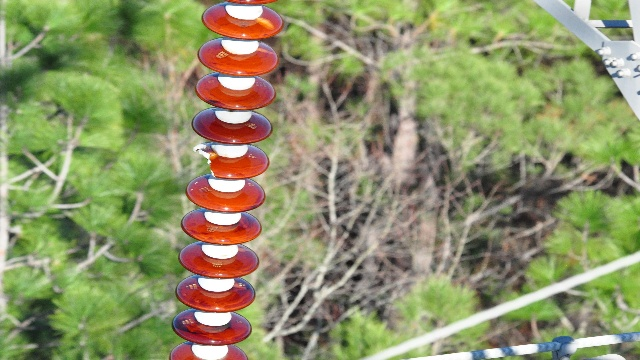broken_local: (192, 142, 219, 178)
insulator_unspecified: (166, 0, 283, 359)
pollution_flashover_local: (255, 14, 274, 31)
